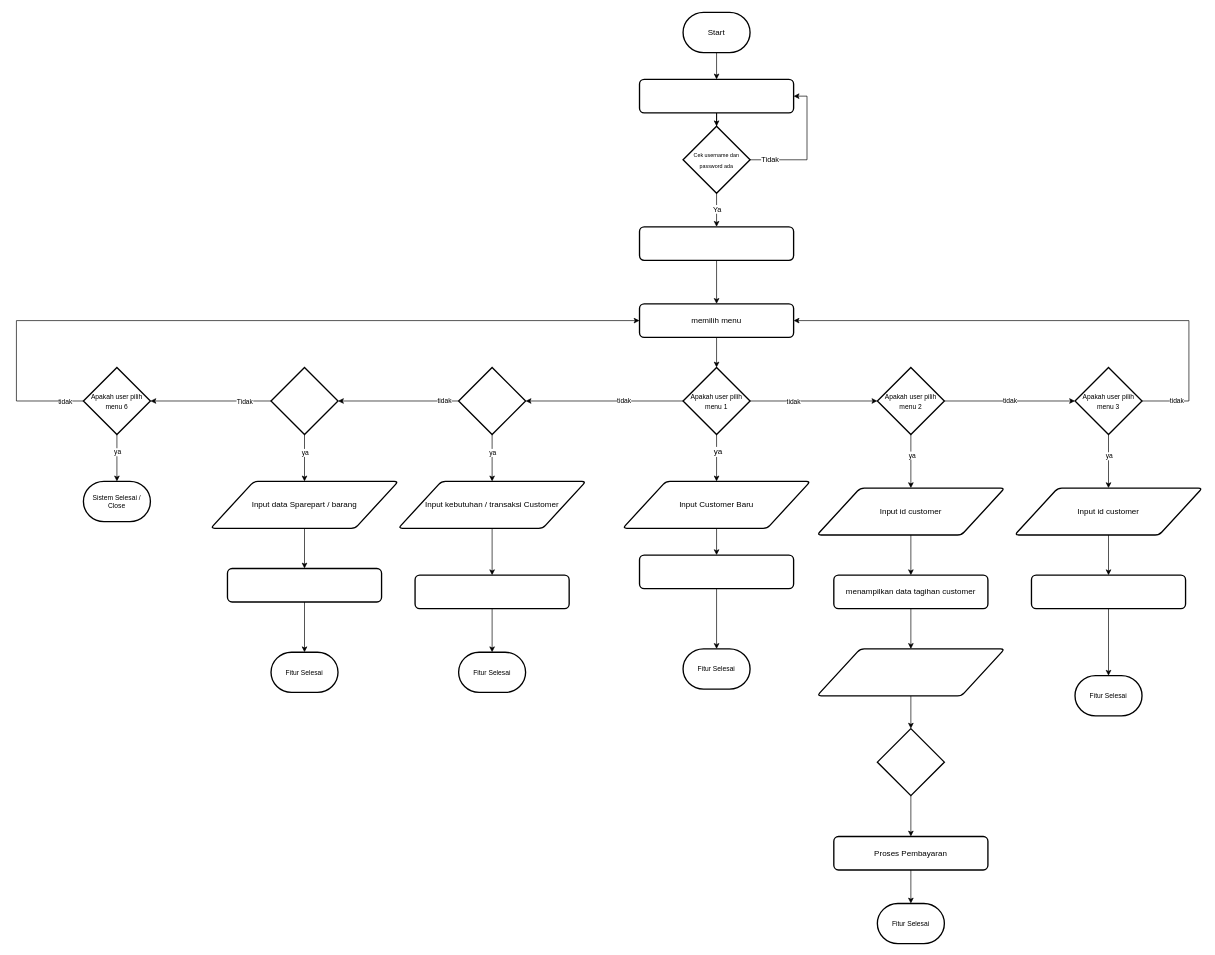
Some shapes in this 1215 by 955 pixel diagram are drawn without their labels. Each missing label, with the box of its shape:
Apakah user pilih menu 4: (270, 366, 338, 435)
Apakah user pilih menu 5: (458, 366, 526, 435)
Apakh saldo mencukupi?: (876, 728, 945, 796)
input pembayaran customer: (816, 648, 1005, 696)
Login: (639, 78, 794, 113)
menampilkan struk customer berdasarkan id cutsomer: (1030, 574, 1186, 609)
menu: (639, 226, 794, 261)
proses input data: (639, 554, 794, 589)
proses penginputan spareepart: (226, 567, 382, 602)
proses transaksi customer: (414, 574, 570, 609)
